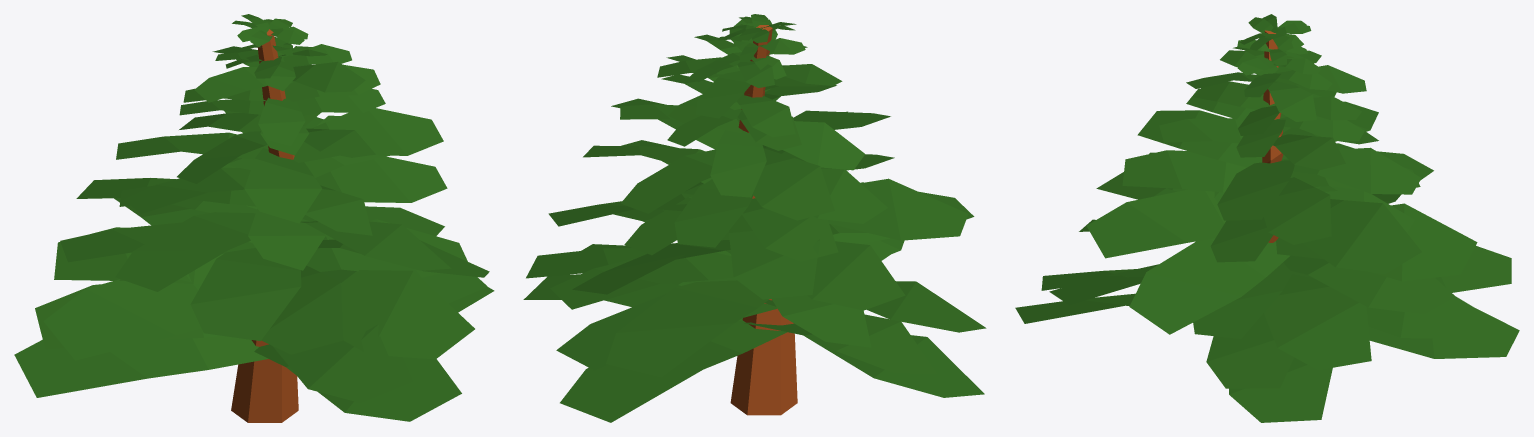
The model's file is Tree_gran.fbx.
3 renders of one model, left to right at view 1: azimuth 30°, elevation 25°; view 2: azimuth 150°, elevation 25°; view 3: azimuth 270°, elevation 25°, orthographic. The views are drawn at different scales.
Parts seen in each view (by area): view 1: Plane.003, Plane.069, Plane.002, Plane.001, Plane.008, Plane.074, Cylinder, Plane.046, Plane.070, Plane.058, Plane.050, Plane.049 (+29 smaller); view 2: Plane, Plane.068, Cylinder, Plane.008, Plane.007, Plane.011, Plane.048, Plane.044, Plane.069, Plane.056, Plane.073, Plane.015 (+29 smaller); view 3: Plane.005, Plane.004, Plane.009, Plane.010, Plane.044, Plane.006, Plane.075, Plane.071, Plane.013, Plane.014, Plane.068, Plane.072 (+29 smaller).
Boxes of the visible parts, <box> form: Plane.003: <box>320,269,474,359</box>; Plane.069: <box>14,336,268,397</box>; Plane.002: <box>43,274,201,360</box>; Plane.001: <box>190,247,301,340</box>; Plane.008: <box>115,212,255,291</box>; Plane.074: <box>273,324,412,402</box>; Cylinder: <box>231,29,298,422</box>; Plane.046: <box>261,265,343,354</box>; Plane.070: <box>254,344,461,421</box>; Plane.058: <box>315,156,447,202</box>; Plane.050: <box>293,108,443,162</box>; Plane.049: <box>244,148,321,223</box>; Plane: <box>606,280,769,377</box>; Plane.068: <box>560,320,787,422</box>; Cylinder: <box>730,25,797,415</box>; Plane.008: <box>828,178,968,240</box>; Plane.007: <box>807,241,905,310</box>; Plane.011: <box>729,215,819,299</box>; Plane.048: <box>753,148,834,220</box>; Plane.044: <box>550,252,733,309</box>; Plane.069: <box>744,322,984,397</box>; Plane.056: <box>742,198,838,261</box>; Plane.073: <box>764,300,937,374</box>; Plane.015: <box>674,179,753,247</box>; Plane.005: <box>1129,238,1289,334</box>; Plane.004: <box>1264,274,1371,370</box>; Plane.009: <box>1086,189,1225,258</box>; Plane.010: <box>1303,199,1421,273</box>; Plane.044: <box>1283,255,1455,314</box>; Plane.006: <box>1276,203,1477,281</box>; Plane.075: <box>1206,313,1293,388</box>; Plane.071: <box>1229,357,1332,422</box>; Plane.013: <box>1122,150,1246,192</box>; Plane.014: <box>1264,177,1331,244</box>; Plane.068: <box>1368,308,1519,358</box>; Plane.072: <box>1366,296,1487,338</box>.
Bounding box in the file's own units: 1157 × 946 × 1200.
